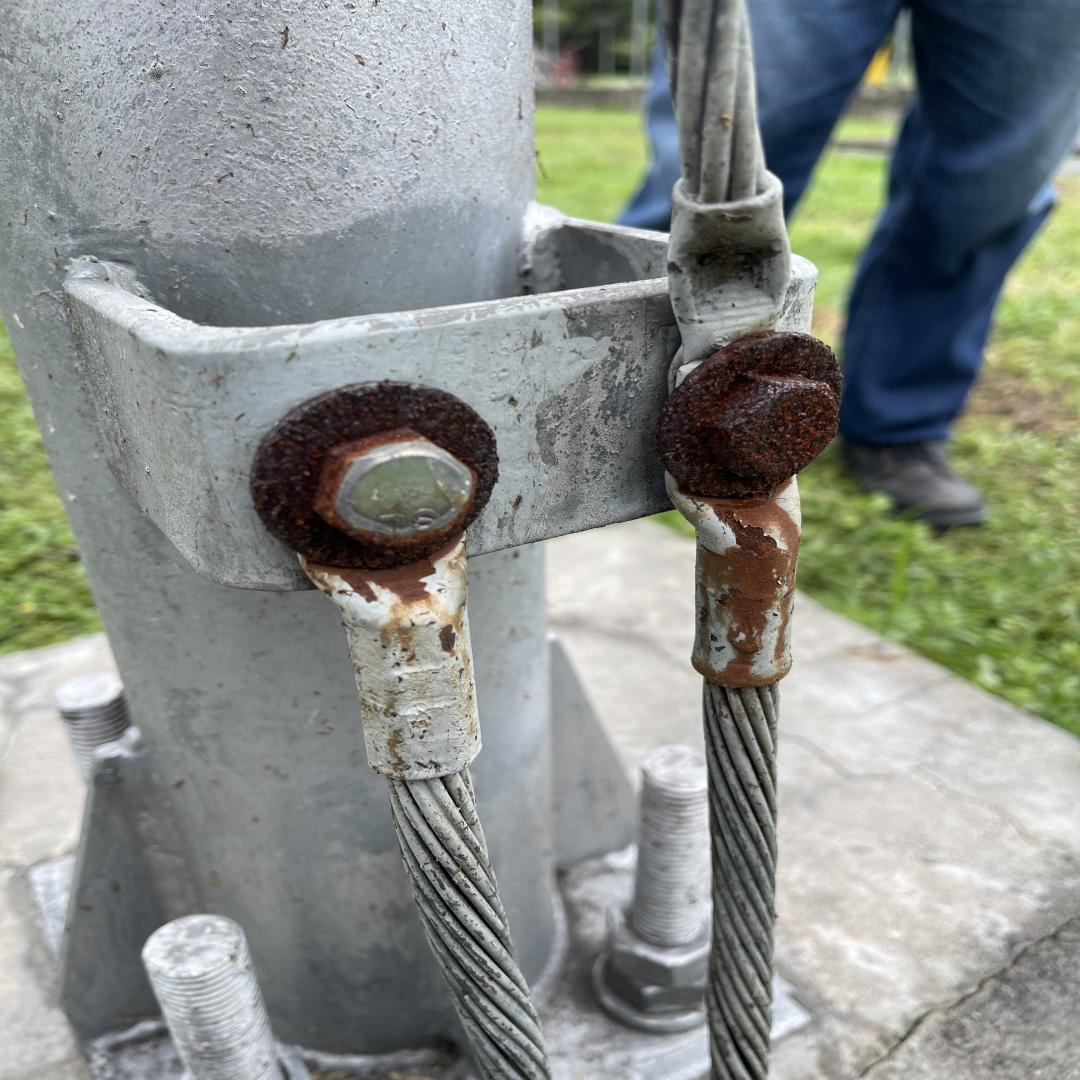Metal: (0, 0, 844, 1080)
Metal corroido: (657, 333, 842, 695), (251, 386, 498, 611)
Tornillo sin corrosion: (338, 442, 472, 535)
